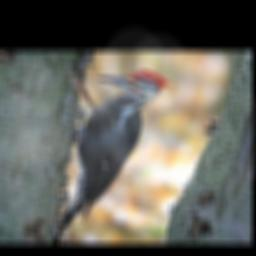Woodpecker: (55, 69, 170, 242)
